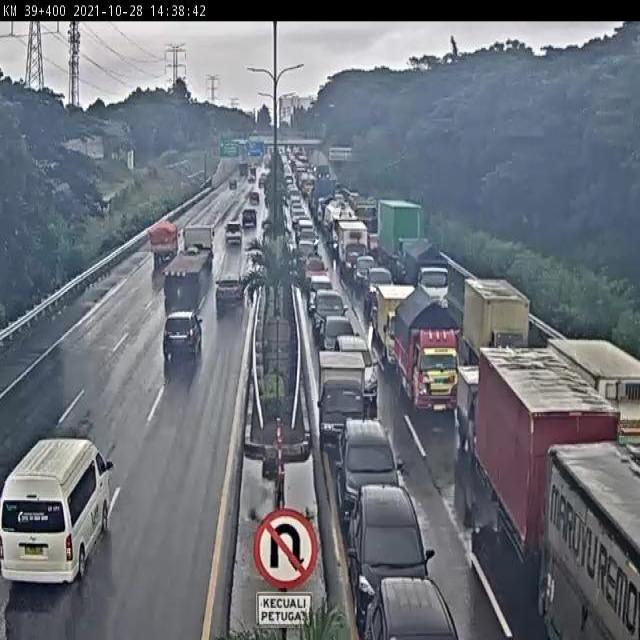big truck: (477, 344, 618, 595), (378, 197, 424, 280)
car: (350, 482, 435, 610), (334, 417, 405, 531), (360, 576, 459, 640), (156, 228, 213, 305), (337, 335, 380, 401), (152, 321, 196, 380), (311, 288, 348, 339), (321, 314, 359, 362), (211, 286, 244, 326), (366, 267, 395, 312), (306, 273, 335, 315), (300, 250, 327, 294), (355, 255, 375, 289), (223, 225, 247, 252), (239, 208, 257, 232)
small truck: (392, 285, 461, 415), (460, 273, 526, 379), (457, 368, 510, 467), (316, 351, 366, 449), (401, 235, 448, 309), (380, 284, 419, 367), (339, 218, 370, 274), (147, 218, 176, 262)
